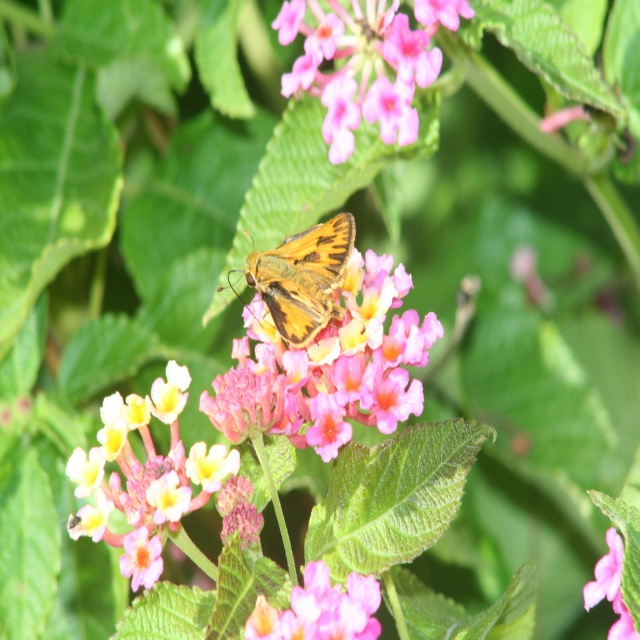Butterfly: (217, 213, 356, 348)
